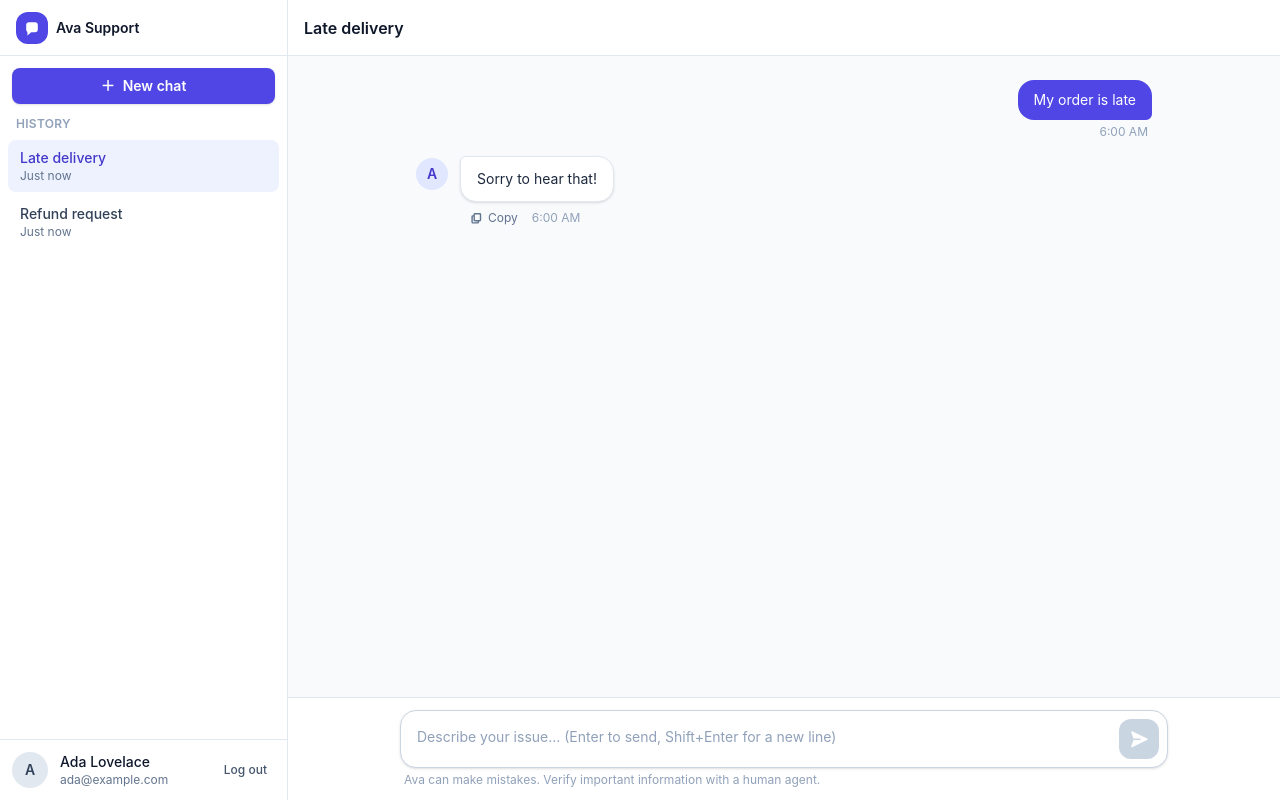
Scenario: Chat dashboard › continues an existing conversation with its id
Expected: the text "Sorry to hear that!" is shown, [477,169,597,189]
Step 1. Type "Any update?" into the text box named "Message" → (760, 739), box [409,719,1111,759]
Then press Enter
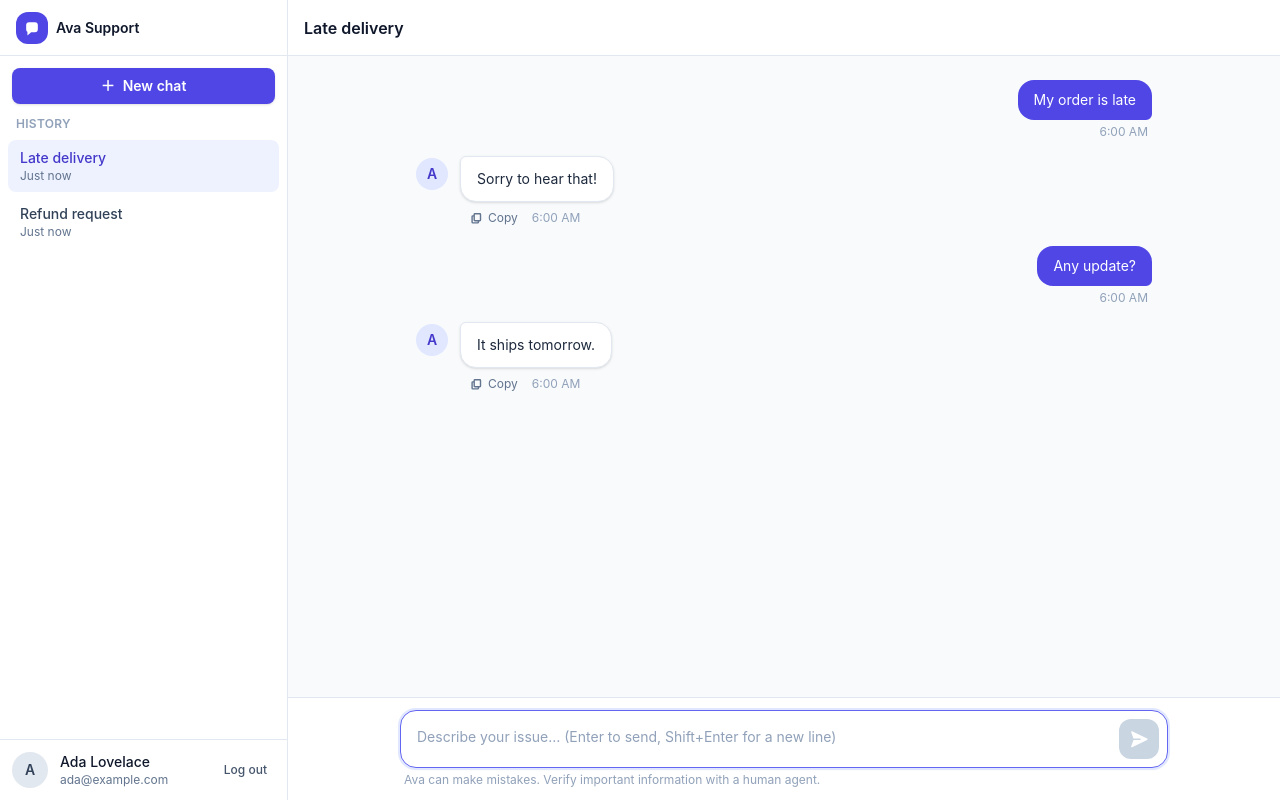
Expected: the text "It ships tomorrow." is shown, [477,335,595,355]
Expected: the number of elements with test id "message" is 4, [1018,80,1152,139]; [416,156,614,230]; [1037,246,1152,305]; [416,322,612,396]
